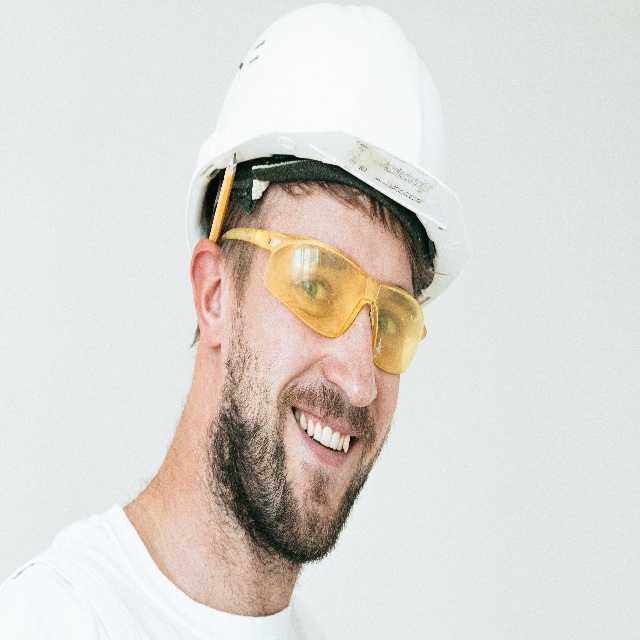Gafas: (219, 226, 427, 374)
